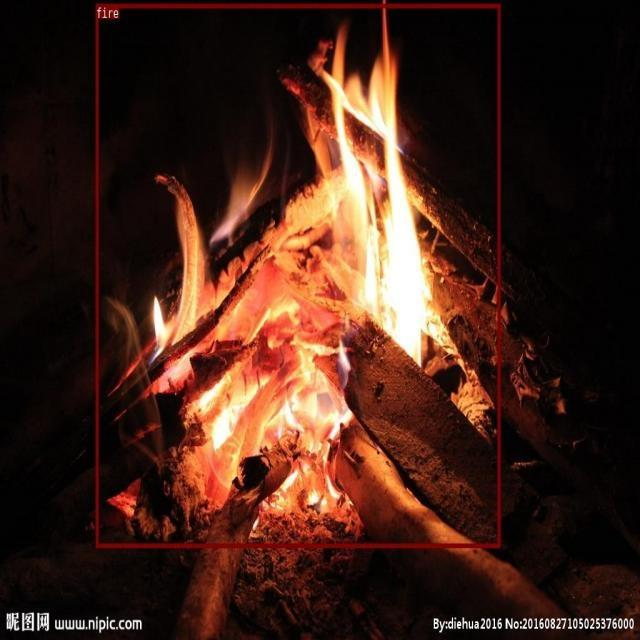fire: (96, 3, 500, 546)
